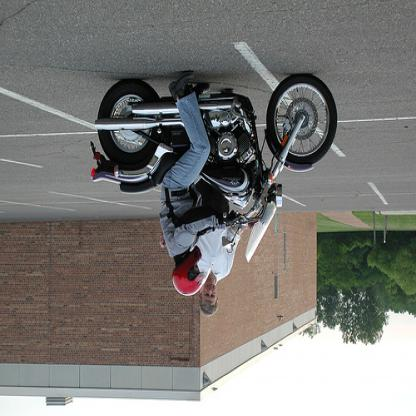motorbike: (89, 75, 338, 265)
person: (160, 72, 242, 298), (191, 179, 258, 319)
